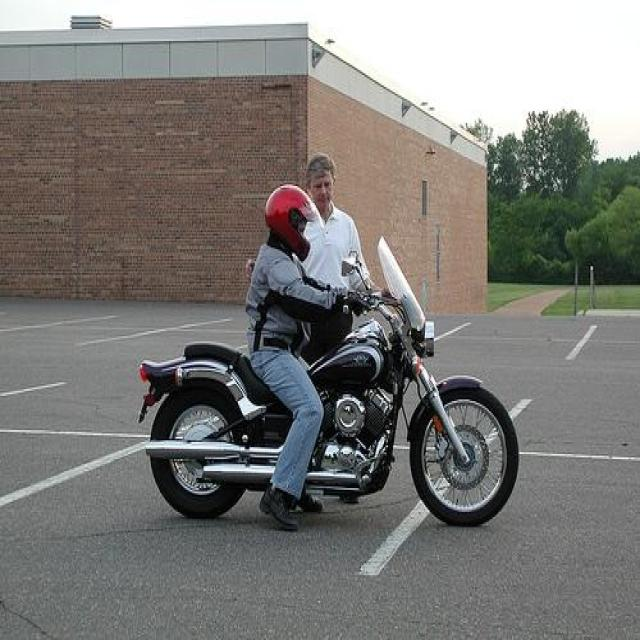Cycle: (139, 371, 484, 512)
